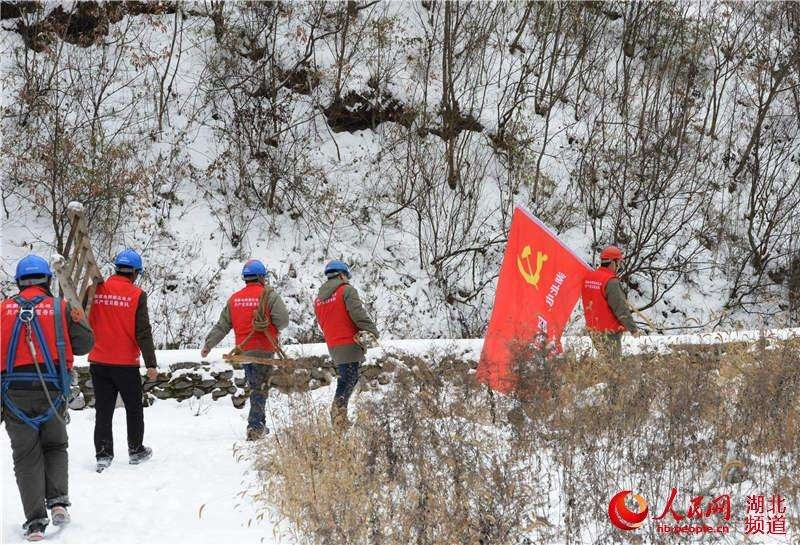blue: (11, 253, 58, 298), (109, 245, 145, 283), (238, 255, 270, 288), (321, 258, 350, 287)
red: (596, 244, 623, 270)
